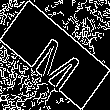M_NE: (24, 21, 86, 89)
